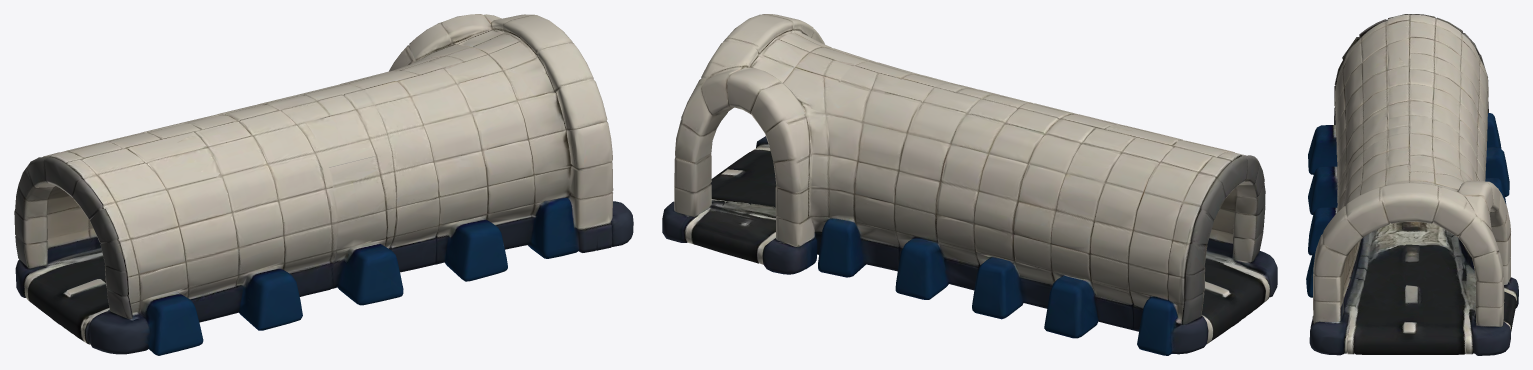
File: tunnel.glb
3 views of the same model, side by side, from view 1: azimuth 30°, elevation 25°; view 2: azimuth 150°, elevation 25°; view 3: azimuth 270°, elevation 25° (orthographic). The views are drawn at different scales.
Parts seen in each view (by area): view 1: tripo_node_f60f9cd7-2722-4900-8066-a508b82ebbff; view 2: tripo_node_f60f9cd7-2722-4900-8066-a508b82ebbff; view 3: tripo_node_f60f9cd7-2722-4900-8066-a508b82ebbff.
Part boxes in pixels (x1,y1,x2,y2): tripo_node_f60f9cd7-2722-4900-8066-a508b82ebbff: (14, 14, 633, 355); tripo_node_f60f9cd7-2722-4900-8066-a508b82ebbff: (662, 14, 1277, 355); tripo_node_f60f9cd7-2722-4900-8066-a508b82ebbff: (1306, 14, 1518, 355).
Bounding box in the file's own units: 0.9794 × 0.3232 × 0.4107.
1 material, 1 textured.
